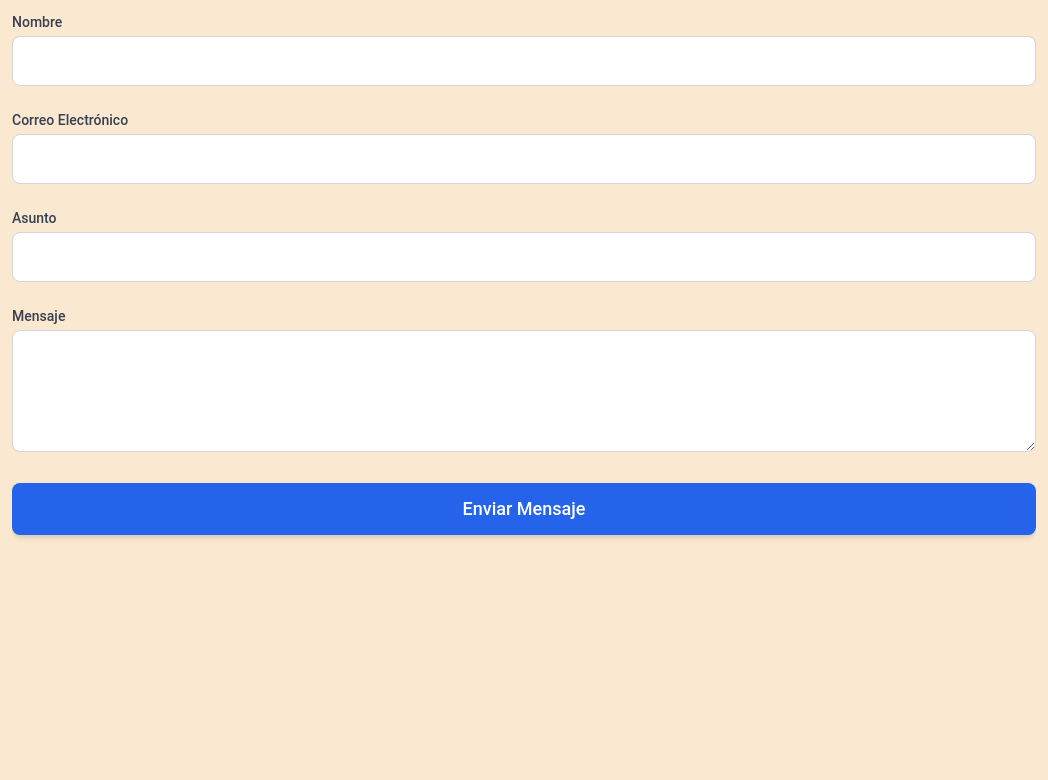
Test: ContactForm › shows error message if API returns error
This screenshot has width=1048, height=780.
Type "Juan" into the field labelled "Nombre" at (524, 61), box [12,36,1036,86]
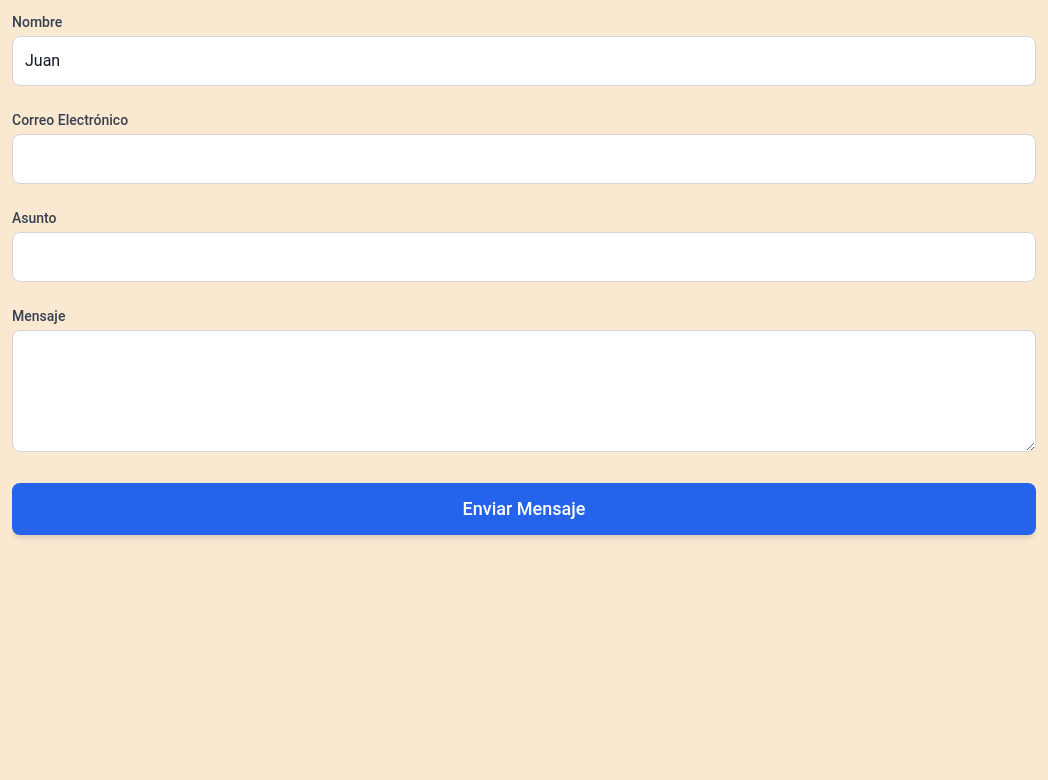
Type "juan@mail.com" into the field labelled "Correo Electrónico" at (524, 159), box [12,134,1036,184]
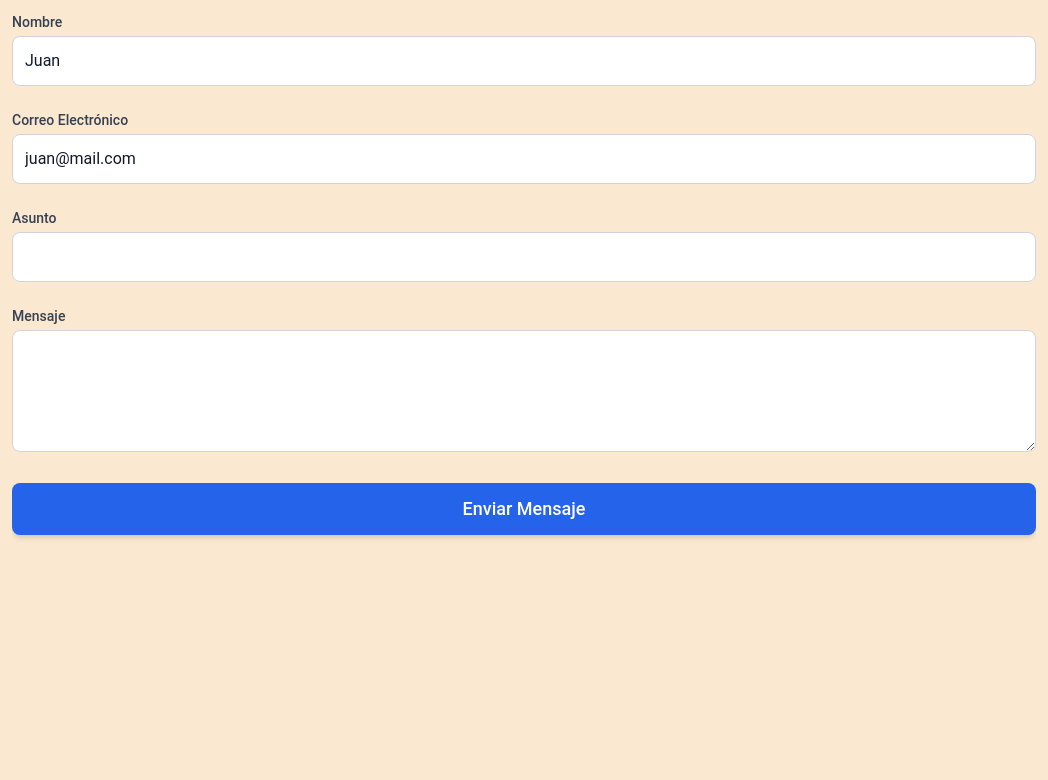
Type "Hola" into the field labelled "Asunto" at (524, 257), box [12,232,1036,282]
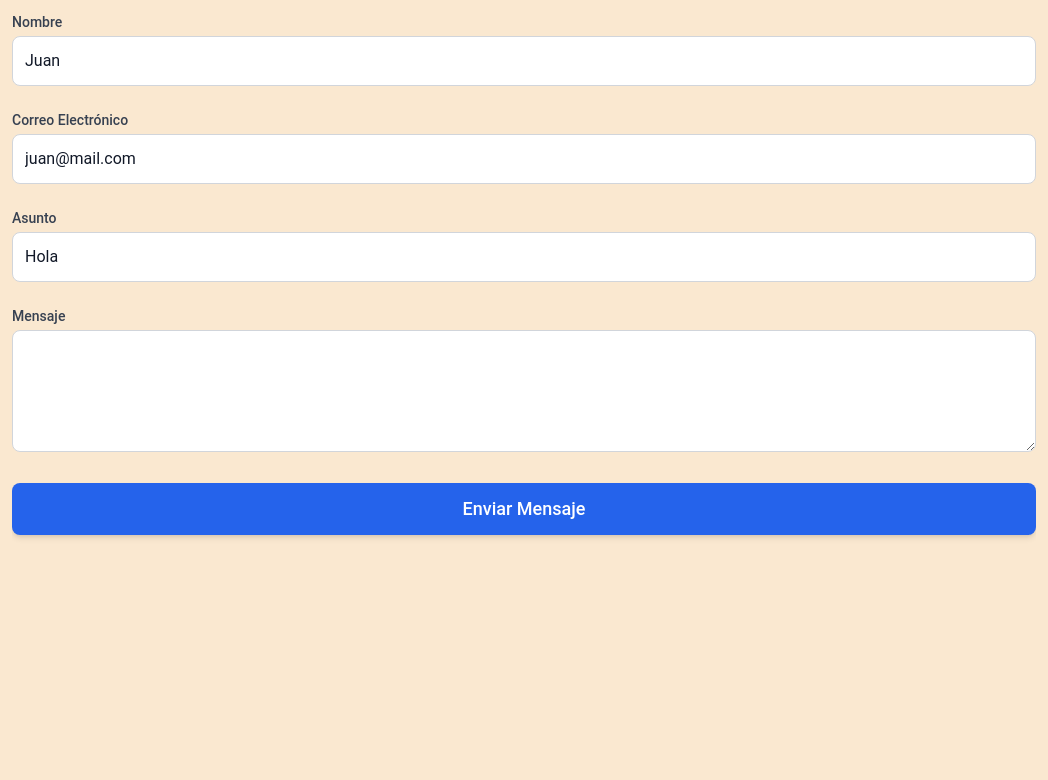
Type "Este es un mensaje válido." into the text box labelled "Mensaje" at (524, 391), box [12,330,1036,452]
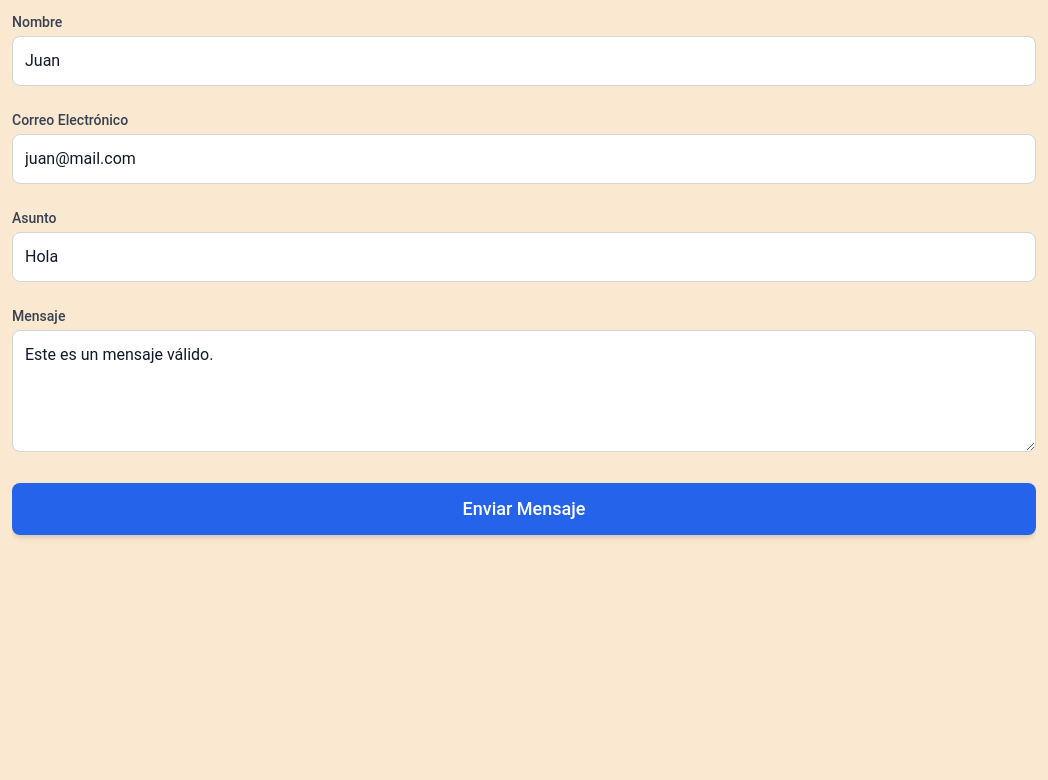
Click the button "Enviar Mensaje" at (524, 509), box [12,483,1036,535]
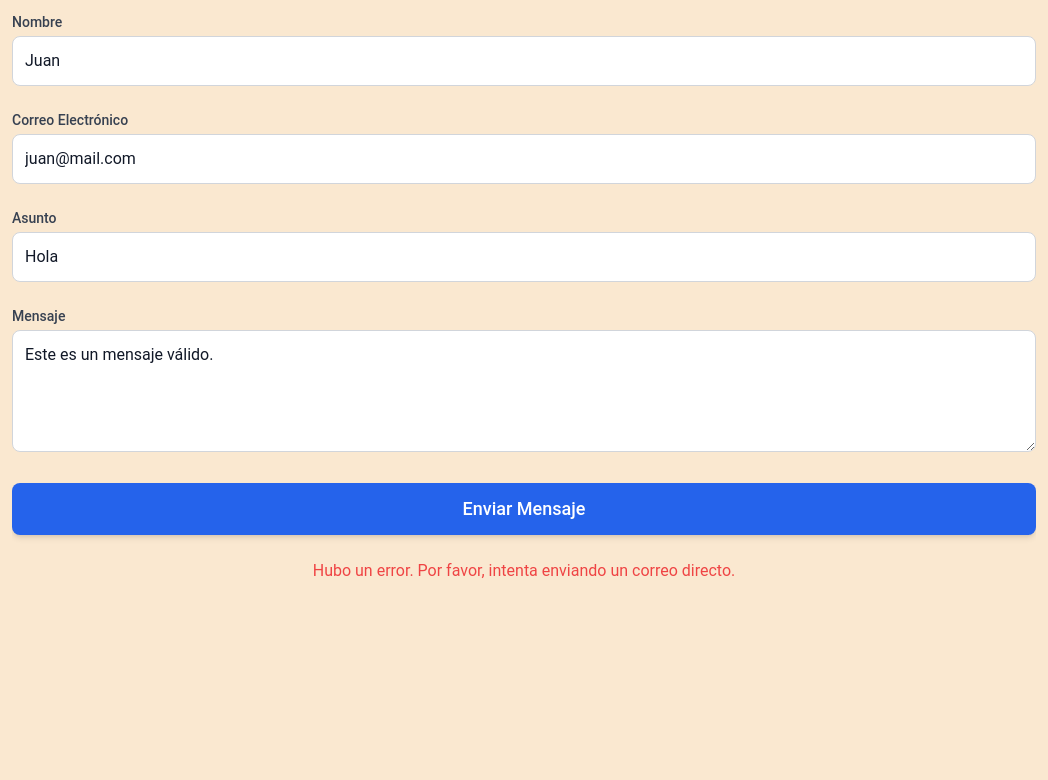
Check: the text "Hubo un error" is shown, box [313,561,735,580]
